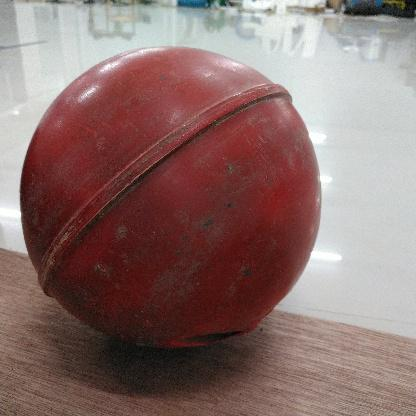red_buoy: (15, 42, 324, 360)
